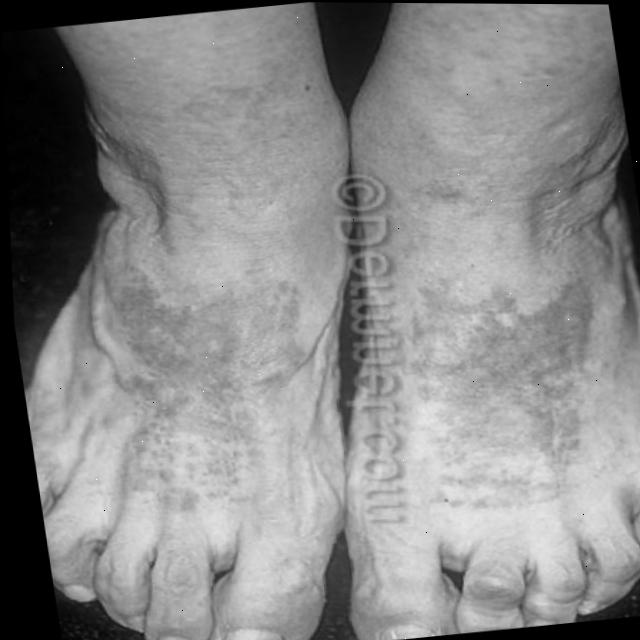Eczema: (88, 239, 334, 504), (416, 275, 617, 524)
